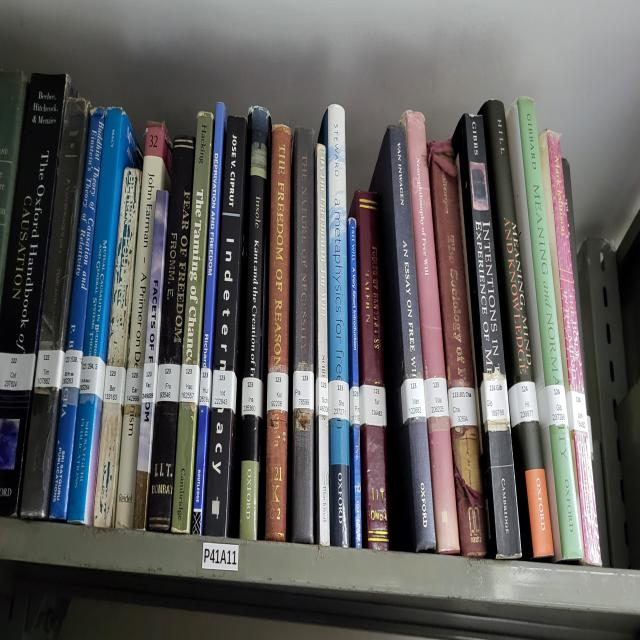Book: (506, 97, 584, 560), (480, 100, 554, 560), (0, 73, 70, 517), (68, 108, 142, 525), (452, 114, 521, 557), (21, 97, 90, 519), (371, 127, 436, 552), (539, 130, 601, 565), (401, 111, 460, 555), (429, 141, 488, 557), (115, 122, 171, 528), (50, 108, 105, 519), (204, 116, 248, 538), (171, 111, 214, 533), (149, 138, 195, 530), (94, 168, 141, 528), (191, 103, 226, 533), (350, 192, 389, 549), (319, 106, 350, 547), (240, 106, 271, 538), (134, 189, 169, 530), (265, 124, 291, 541), (291, 127, 315, 544), (316, 143, 330, 547), (348, 216, 359, 390)
Label: (480, 368, 510, 430), (0, 352, 35, 392), (509, 381, 539, 427), (35, 349, 65, 390), (80, 354, 106, 400), (359, 384, 386, 427), (449, 387, 478, 427), (211, 371, 236, 414), (401, 379, 426, 422), (424, 376, 449, 419), (545, 384, 569, 427), (156, 363, 181, 403), (566, 390, 588, 433), (241, 376, 264, 417), (104, 365, 126, 406), (292, 371, 314, 411), (180, 363, 200, 406), (329, 379, 349, 422), (268, 371, 289, 411), (62, 349, 82, 390), (124, 368, 144, 406), (142, 363, 158, 403), (315, 376, 329, 417), (199, 368, 211, 406), (349, 387, 360, 425)
